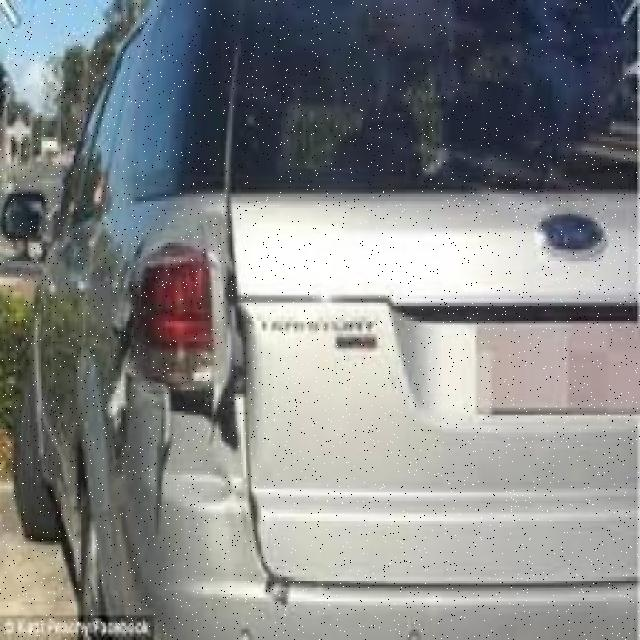damage: (99, 222, 269, 518)
